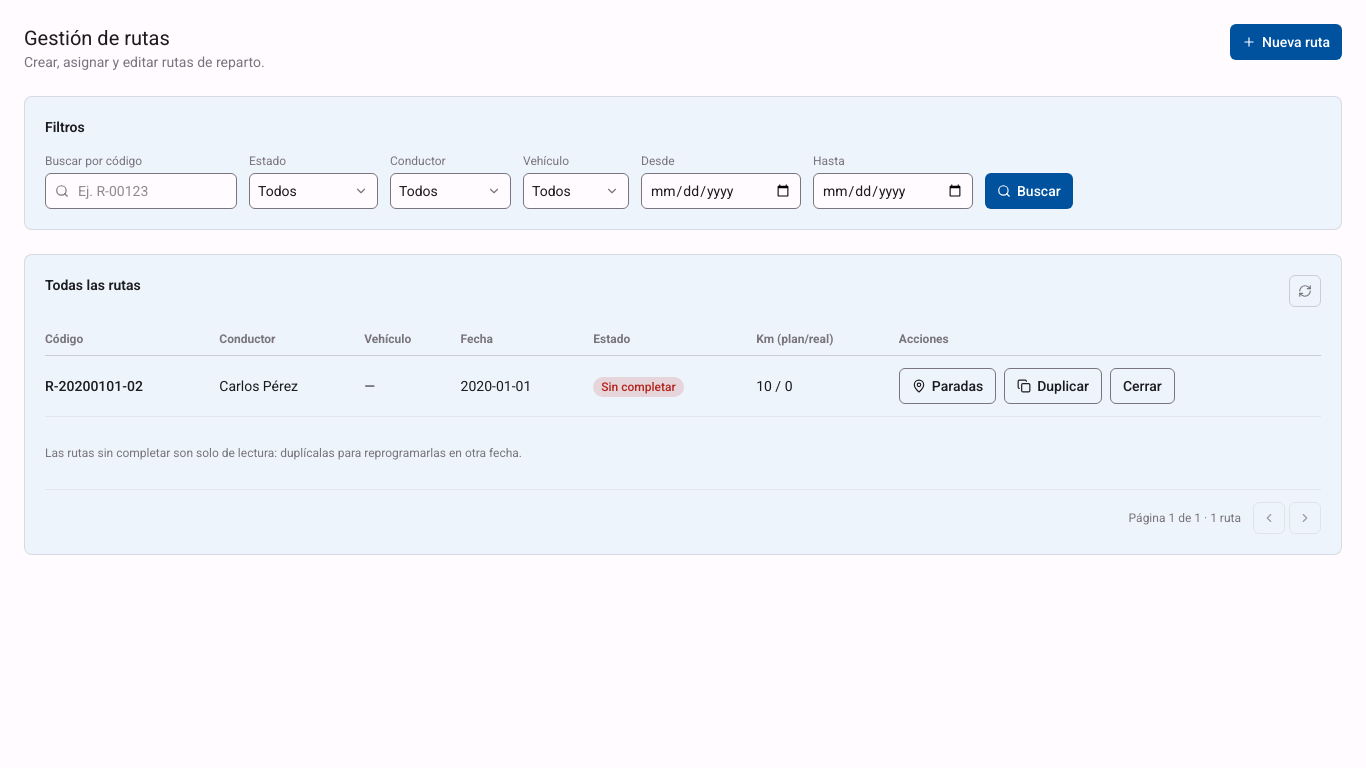
Test: RutasPage › routes that weren't completed (sin completar) › closing an overdue in-progress route asks for confirmation, then PATCHes /close
This screenshot has width=1366, height=768.
Click the button "Cerrar": (1142, 386) left=1110, top=368, right=1175, bottom=404
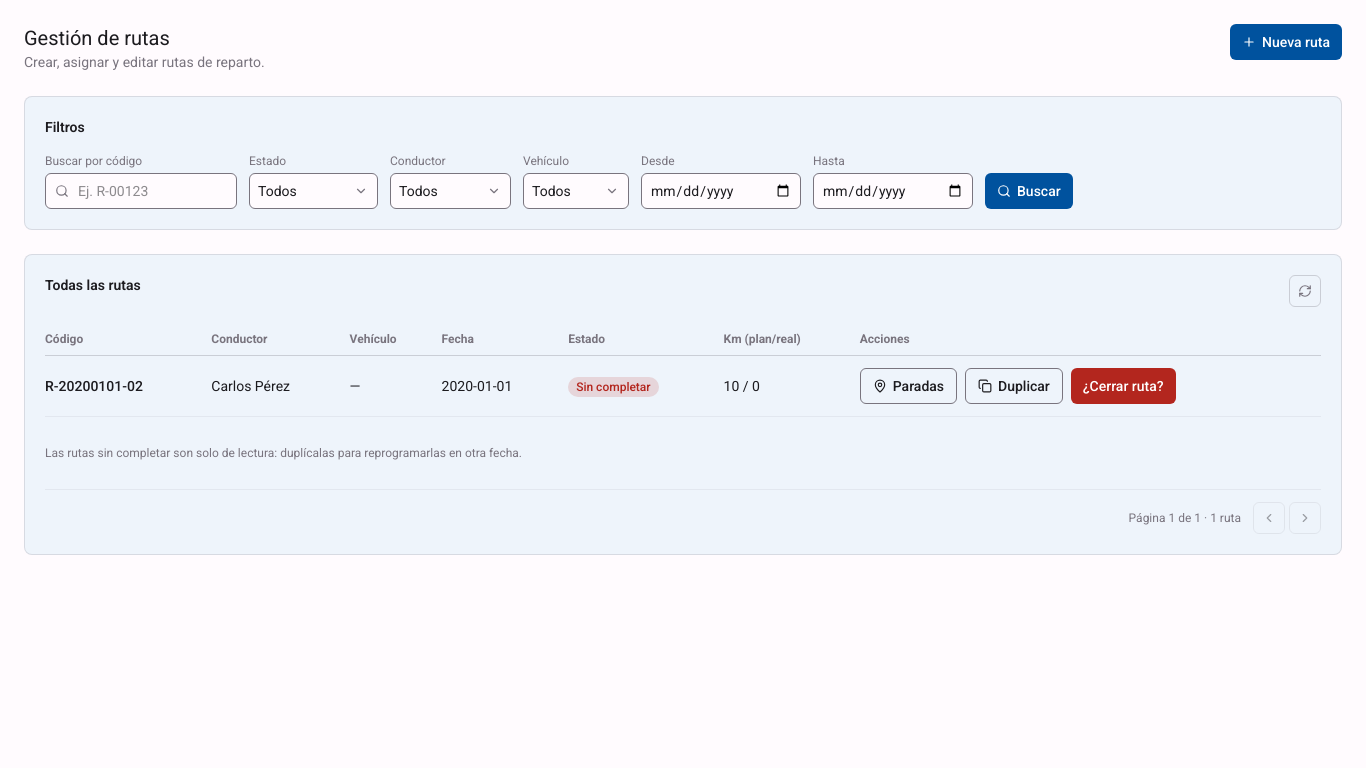
Click the button "¿Cerrar ruta?": (1123, 386) left=1071, top=368, right=1176, bottom=404
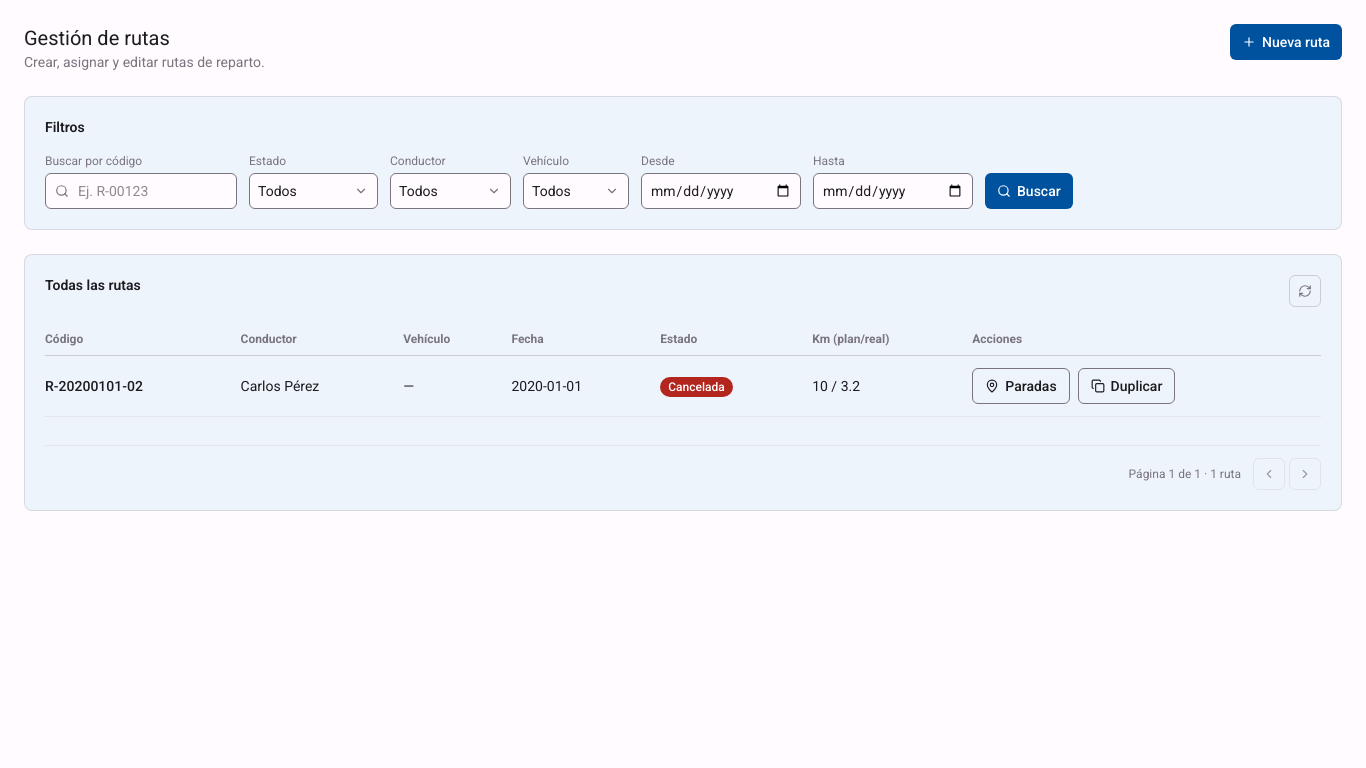
Check: the button "Cerrar" is gone
